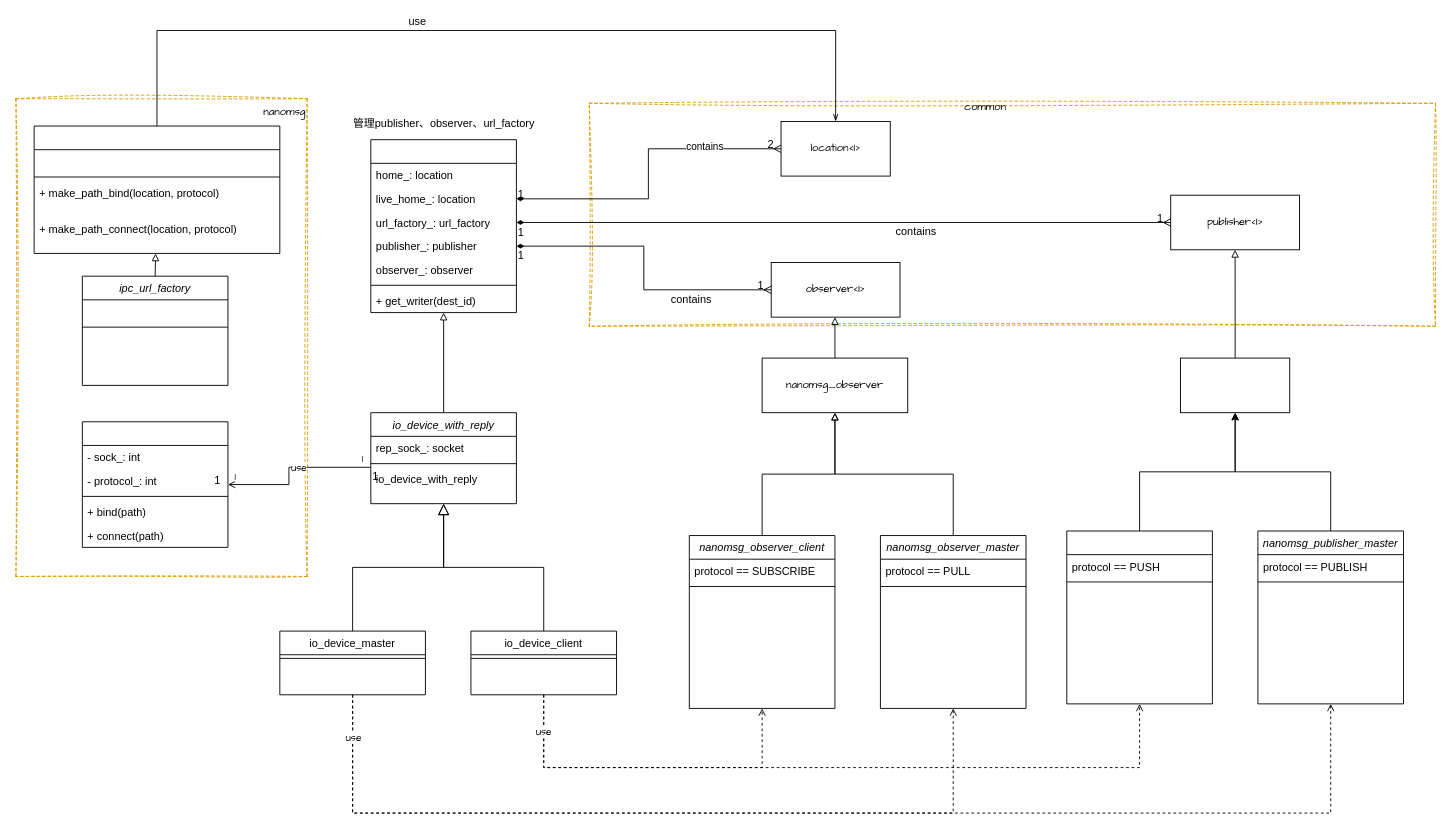
The diagram is 1451 pixels wide and 836 high, and some of its shapes have lost their labels. The box of each missing label's shape, as (x1, y1, x2, y2) in pixels:
io_device: (370, 139, 516, 313)
nanomsg_publisher: (1180, 357, 1290, 413)
nanomsg_publisher_client: (1066, 530, 1212, 704)
socket: (81, 421, 228, 547)
url_factory: (33, 125, 280, 253)
